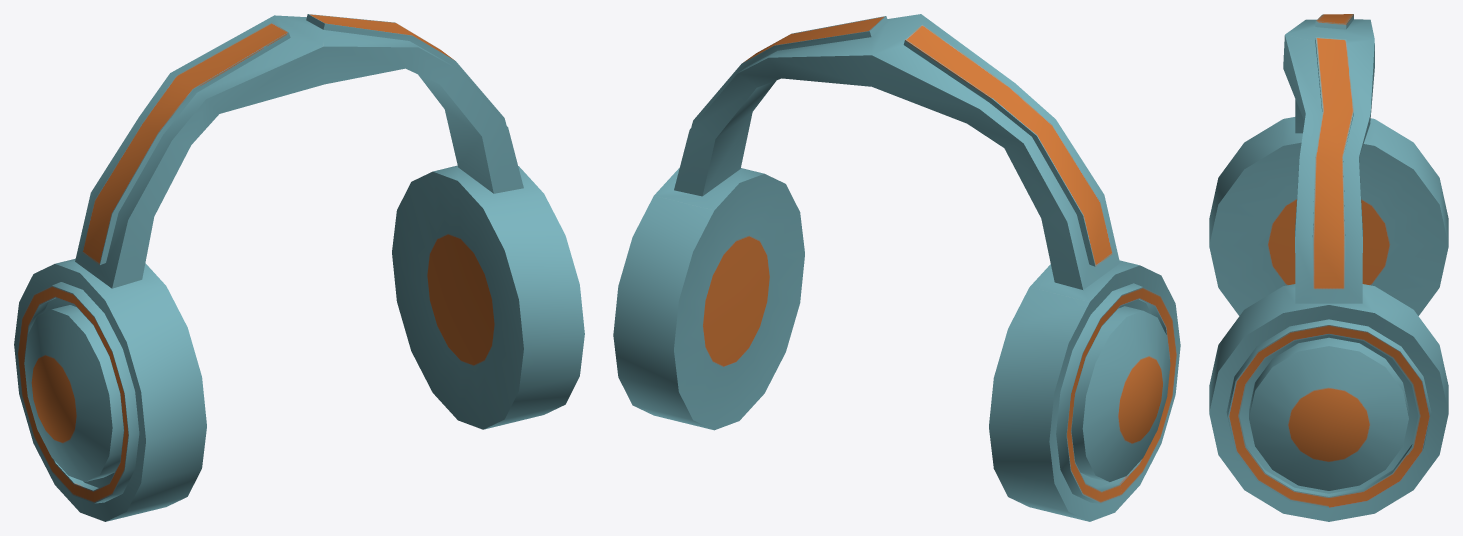
Rendered from headphones.glb.
3 renders of one model, left to right at view 1: azimuth 30°, elevation 25°; view 2: azimuth 150°, elevation 25°; view 3: azimuth 270°, elevation 25°, orthographic. The views are drawn at different scales.
Visible parts, largest first — view 1: headphones; view 2: headphones; view 3: headphones.
Boxes of the visible parts, left/top/right/bottom form: headphones: left=14, top=14, right=584, bottom=521; headphones: left=613, top=14, right=1180, bottom=521; headphones: left=1209, top=14, right=1448, bottom=521.
Bounding box in the file's own units: 0.1796 × 0.1497 × 0.0821.
1 material, 1 textured.
